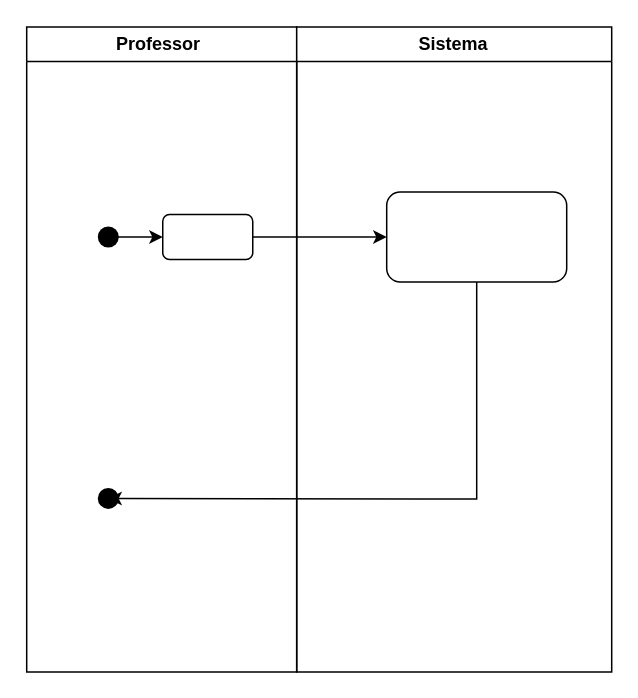
Some shapes in this 638 by 698 pixel diagram are drawn without their labels. Here are the shapes that lost their labels. From the top down, the centre of each, then its label:
the point at 207,236: Notas gerais
the point at 476,236: Exibe a média geral de notas, projetos avaliado e feedback
